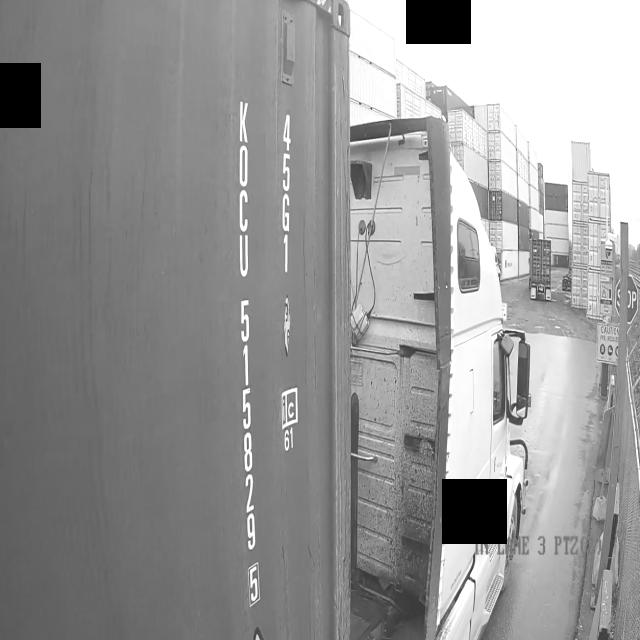container_side_no: (233, 90, 271, 627)
truck_with_container: (0, 0, 533, 640)
